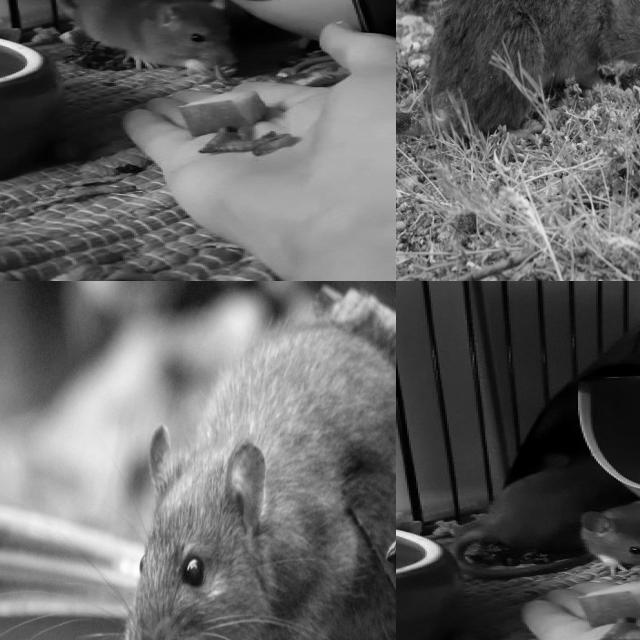rat: (124, 326, 396, 640), (427, 0, 640, 138), (486, 454, 640, 555), (76, 0, 246, 72), (573, 497, 640, 578)
